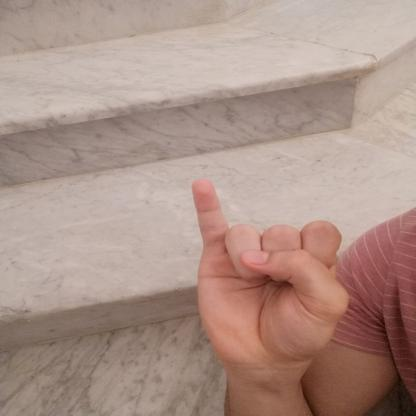MEEM: (173, 166, 364, 383)
